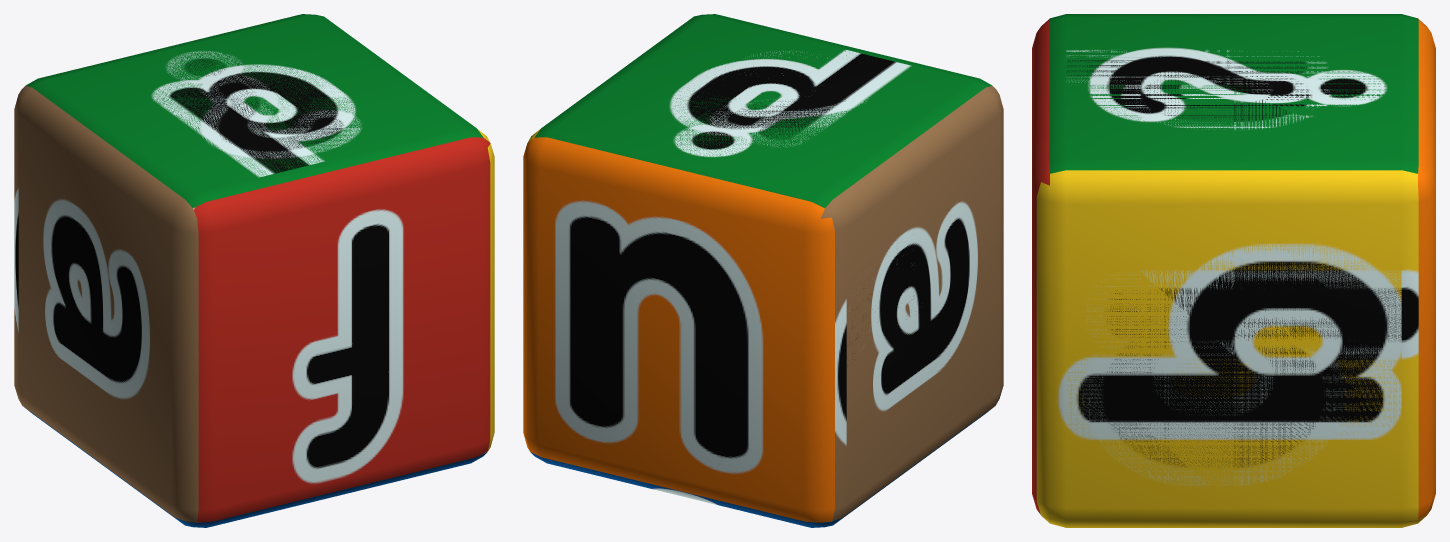
Rendered from letters.glb.
The picture shows the model from 3 angles, left to right: view 1: azimuth 30°, elevation 25°; view 2: azimuth 150°, elevation 25°; view 3: azimuth 270°, elevation 25°; orthographic projection. The views are drawn at different scales.
Parts seen in each view (by area): view 1: cfy?ba, nqadgj; view 2: nqadgj, cfy?ba; view 3: cfy?ba, nqadgj.
Boxes of the visible parts, left/top/right/bottom form: cfy?ba: left=18, top=16, right=494, bottom=527; nqadgj: left=14, top=14, right=471, bottom=522; nqadgj: left=523, top=16, right=975, bottom=527; cfy?ba: left=555, top=14, right=1003, bottom=522; cfy?ba: left=1032, top=14, right=1401, bottom=527; nqadgj: left=1066, top=14, right=1435, bottom=527.
Size of the model in its own units: 2 by 2 by 2.
Materials: 5 (5 with a texture image).
